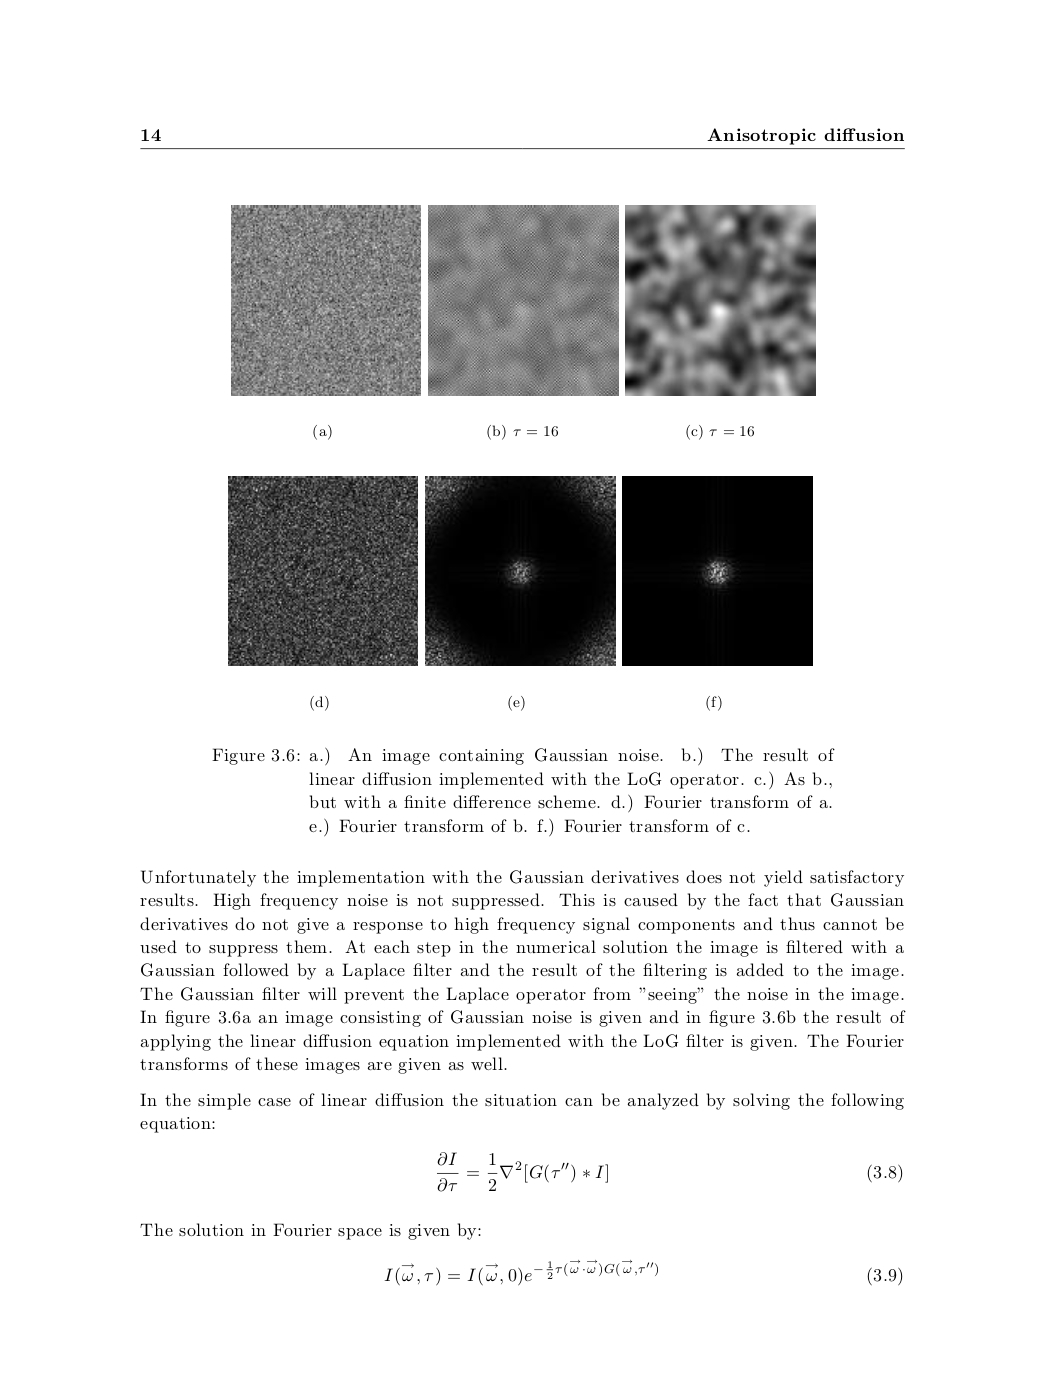figure: (428, 205, 619, 395), (425, 476, 615, 665), (622, 476, 812, 665), (231, 205, 420, 395), (625, 205, 815, 395), (228, 476, 417, 665)
formula: (437, 1151, 902, 1192), (385, 1258, 902, 1286)
